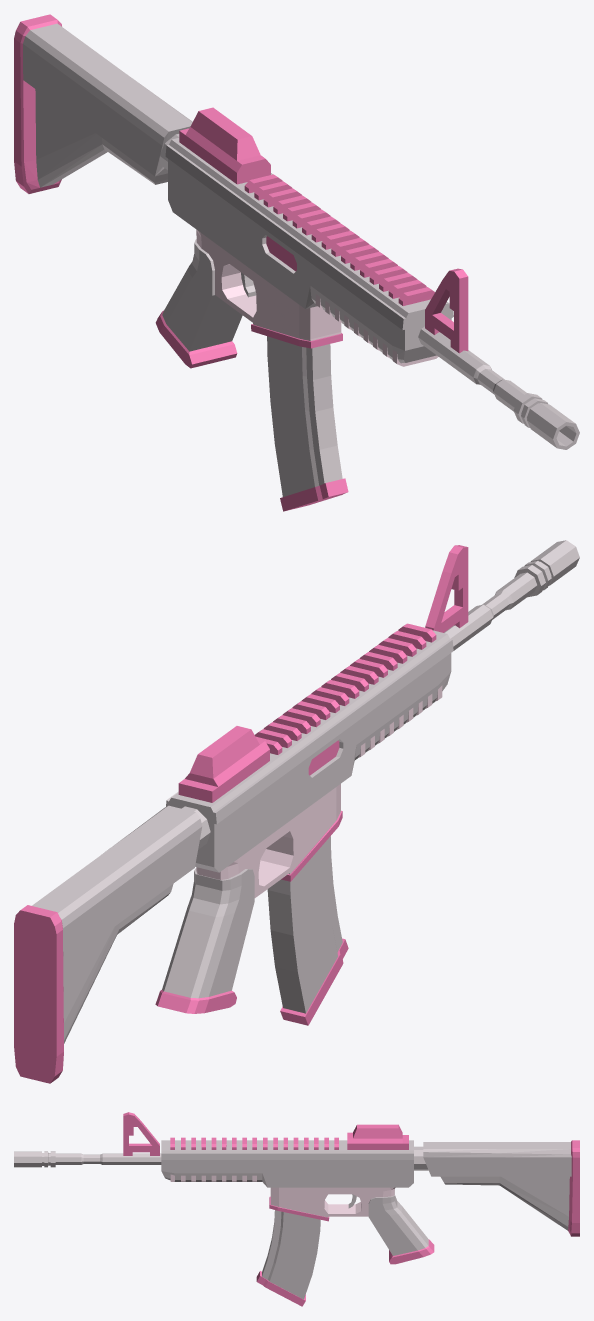
File: AssaultRifle2_2.obj
3 views of the same model, one above another, from view 1: azimuth 30°, elevation 25°; view 2: azimuth 150°, elevation 25°; view 3: azimuth 270°, elevation 25° (orthographic). The views are drawn at different scales.
Visible parts, largest first — view 1: Body, Grip, Panel; view 2: Body, Grip, Panel; view 3: Body, Grip, Panel.
Part boxes in pixels (box(x1,y1,x2,y2)): Body: box(23, 23, 579, 496); Grip: box(14, 14, 468, 511); Panel: box(196, 229, 438, 366); Body: box(32, 540, 579, 1043); Grip: box(14, 545, 468, 1083); Panel: box(196, 685, 442, 897); Body: box(14, 1140, 571, 1299); Grip: box(123, 1112, 579, 1306); Panel: box(170, 1174, 395, 1217).
Size of the model in its own units: 0.3069 by 2.04 by 5.5.
